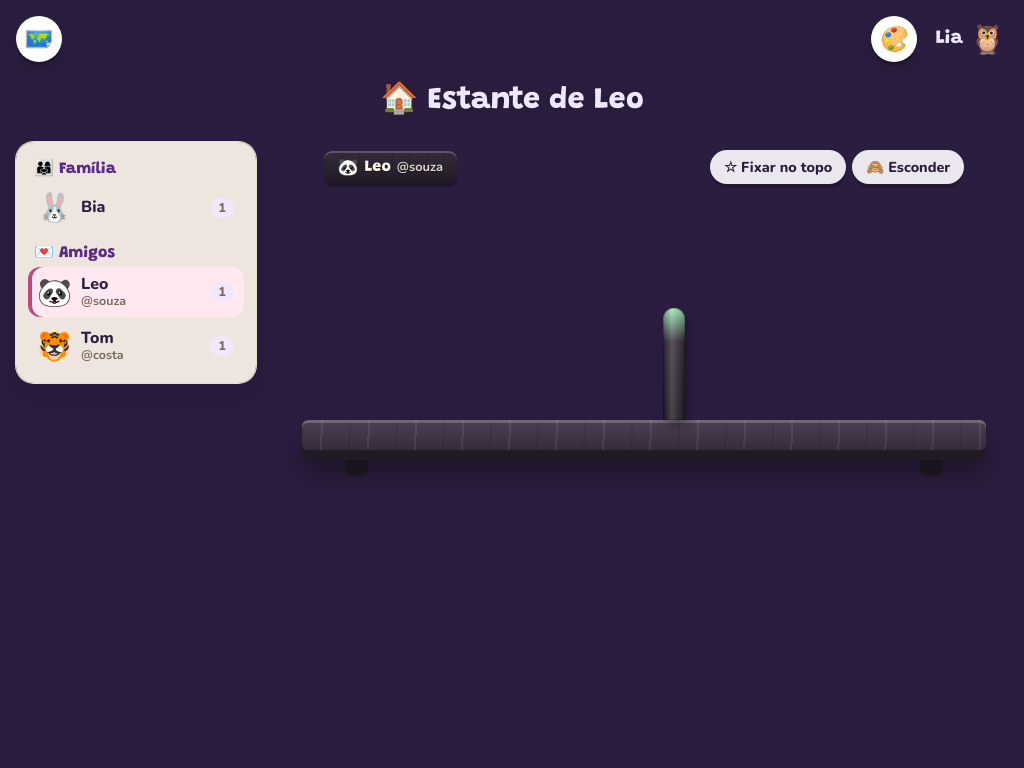
Test case: visitar estantes › fixa no topo e esconde
Click the button "Tom @costa 1": coordinates (136, 346) 28,321 -> 244,372
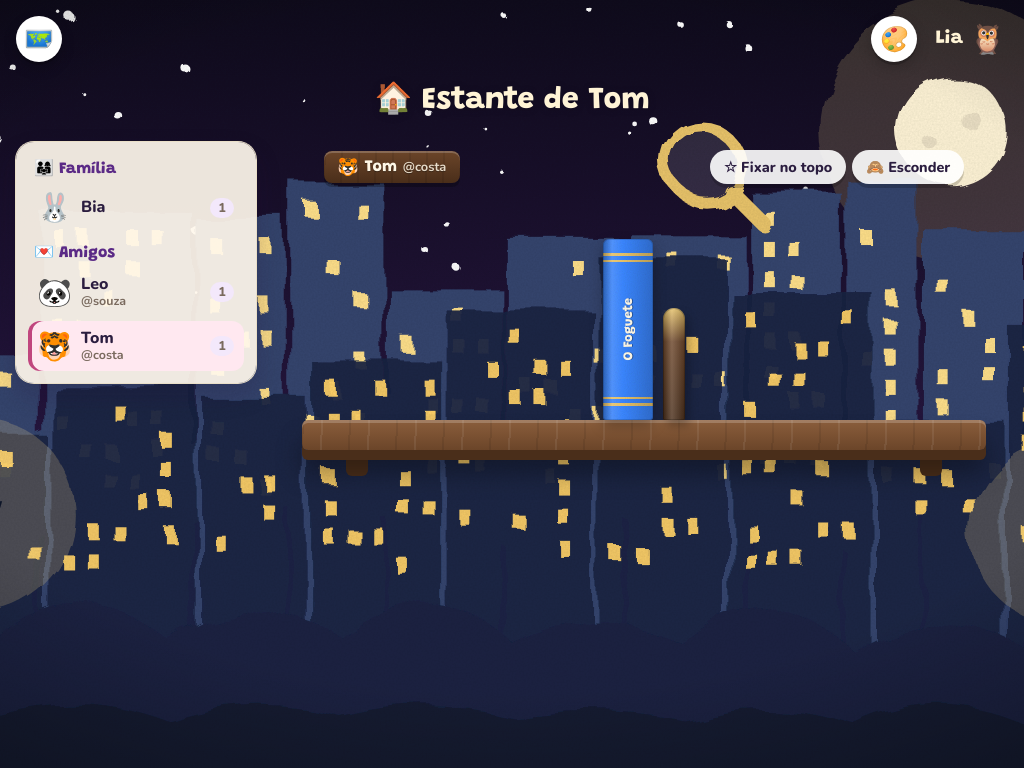
Click the button "☆ Fixar no topo": coordinates (778, 167) 710,150 -> 846,184
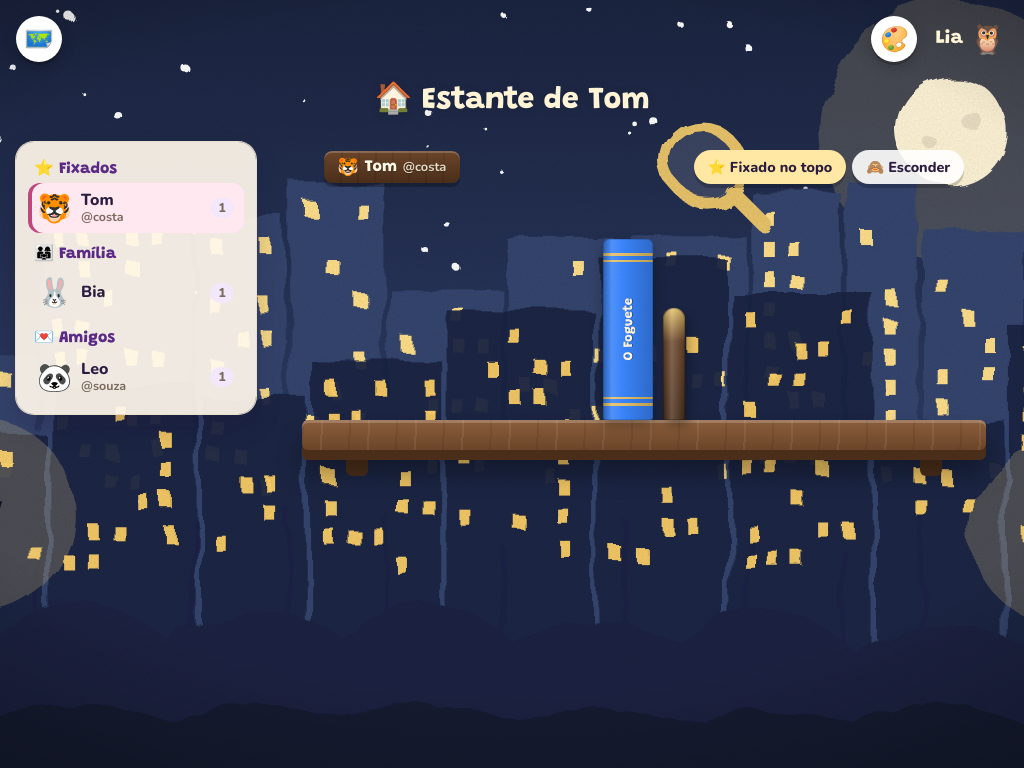
Now the text "Fixados" is shown, box 59,161 -> 117,177
Click the button "🙈 Esconder": coordinates (908, 167) 852,150 -> 964,184
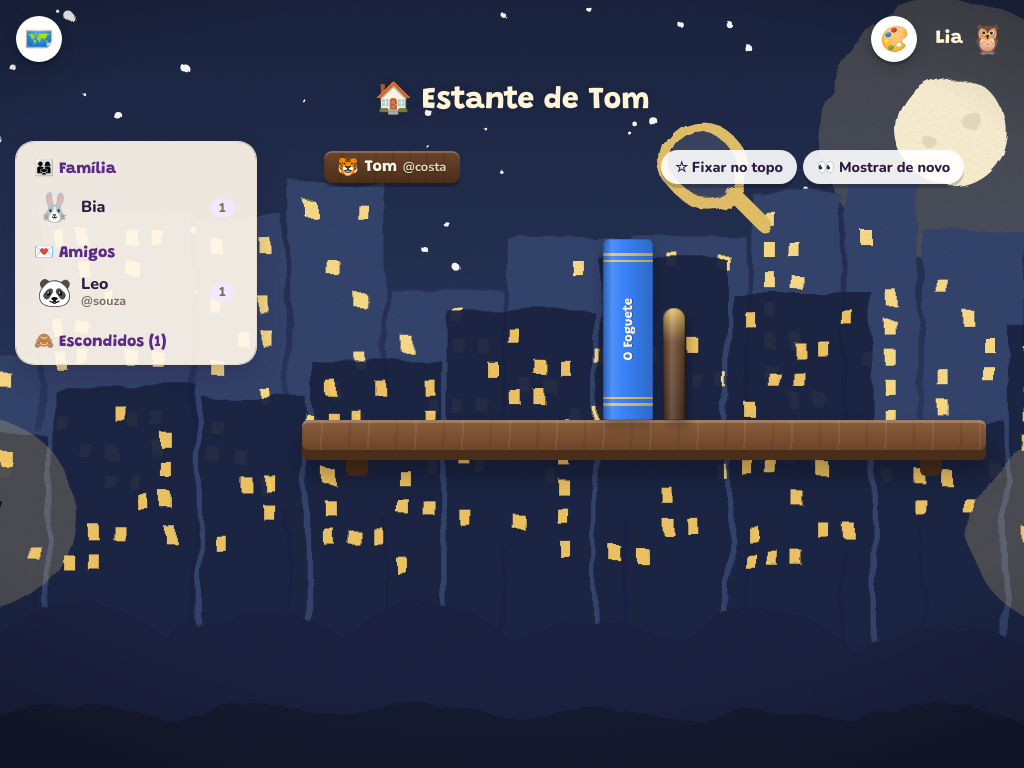
Click the button "🙈 Escondidos (1)": coordinates (136, 338) 28,323 -> 244,352
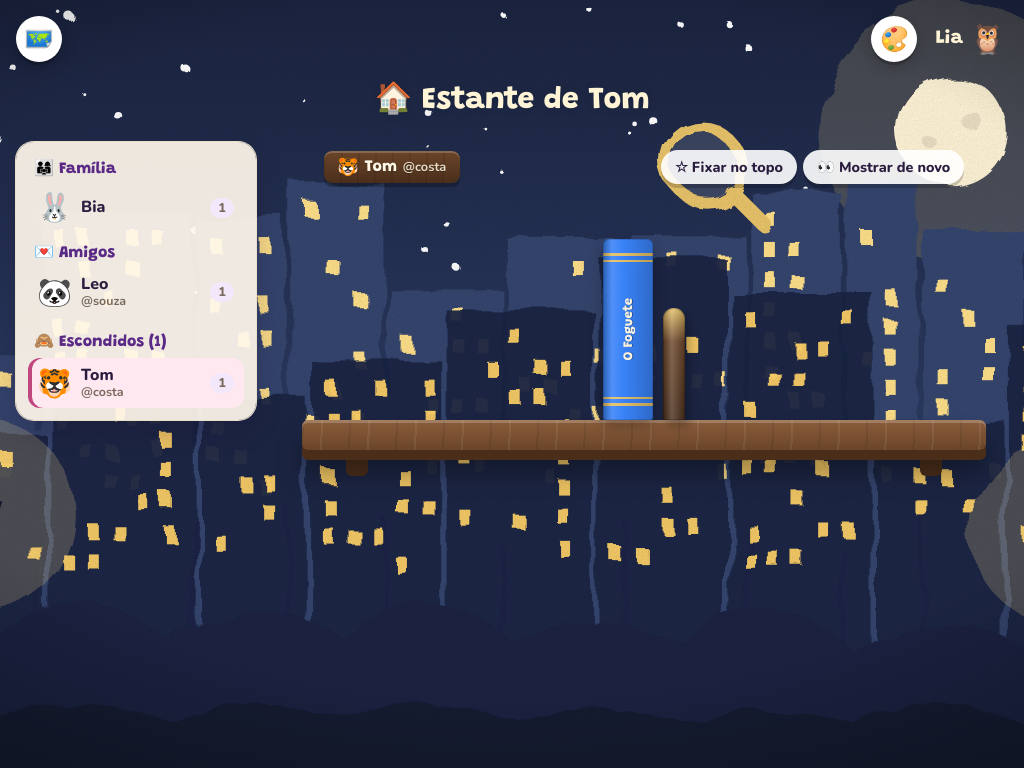
Now the button "Tom @costa 1" is shown, box 28,358 -> 244,408
